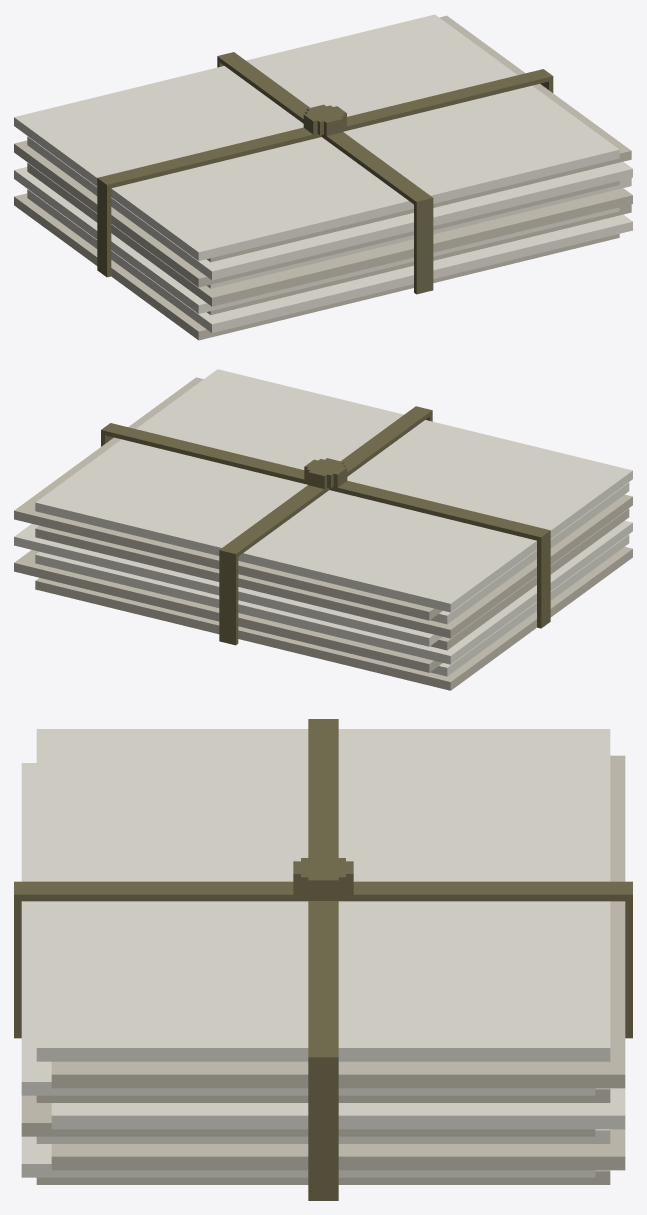
The model's file is bundle_cotton.glb.
3 views of the same model, one above another, from view 1: azimuth 30°, elevation 25°; view 2: azimuth 150°, elevation 25°; view 3: azimuth 270°, elevation 25° (orthographic). The views are drawn at different scales.
Visible parts, largest first — view 1: bundle_cotton:compound; view 2: bundle_cotton:compound; view 3: bundle_cotton:compound.
Part boxes in pixels (left/top/right/bottom): bundle_cotton:compound: left=14, top=14, right=632, bottom=340; bundle_cotton:compound: left=14, top=369, right=632, bottom=690; bundle_cotton:compound: left=14, top=719, right=632, bottom=1200.
Size of the model in its own units: 0.212 by 0.048 by 0.164.
